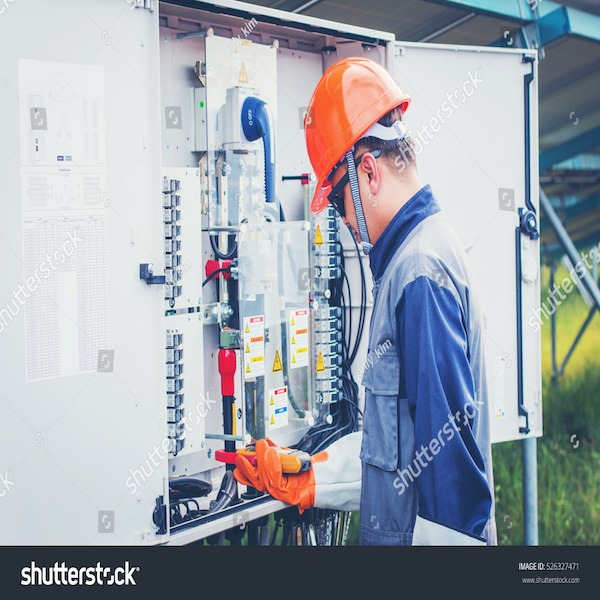helmet: (301, 55, 402, 208)
